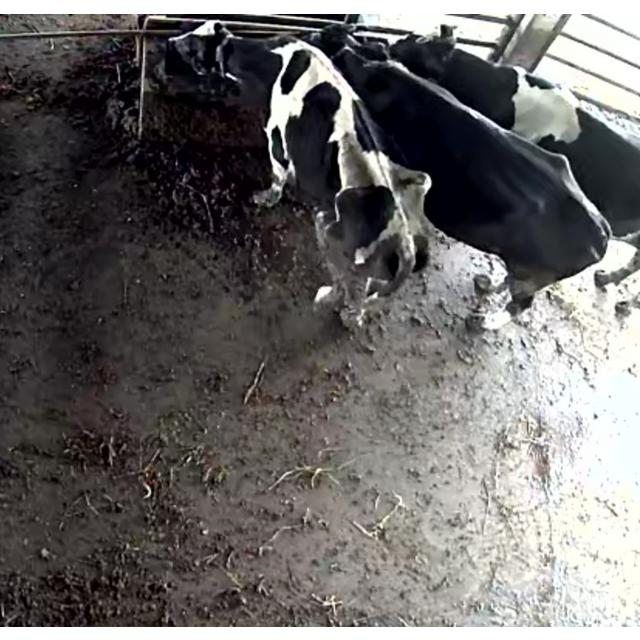drink: (162, 21, 308, 111), (304, 15, 412, 113)
